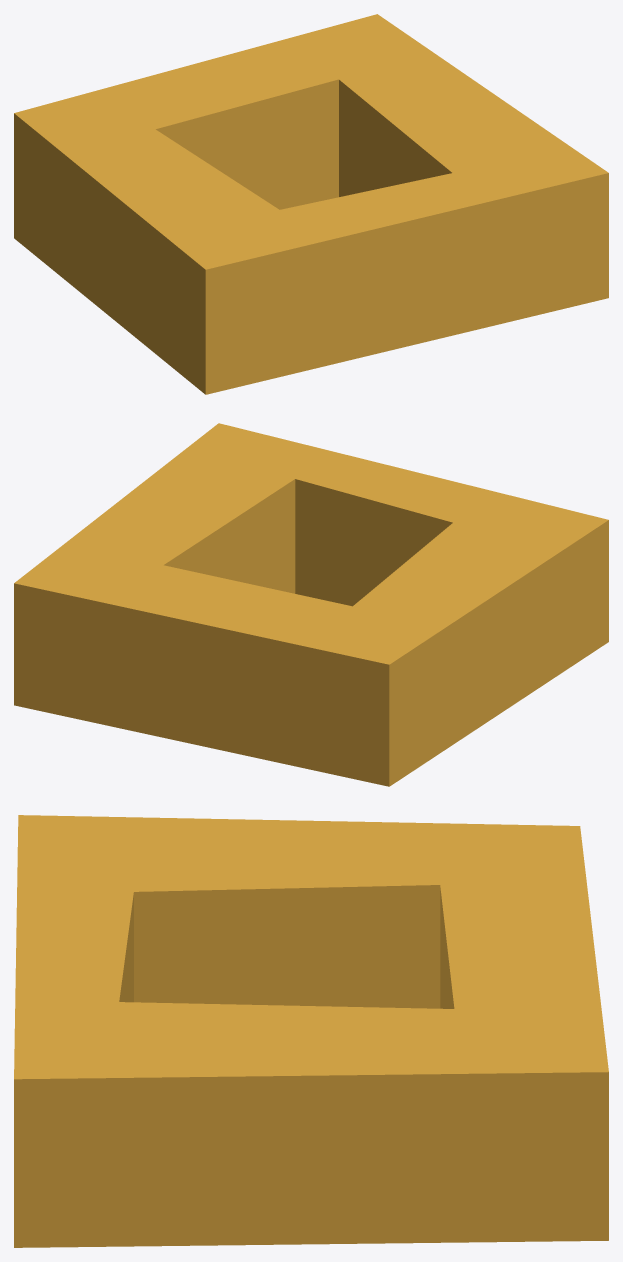
The model's file is letter_o.fbx.
3 renders of one model, top to bottom at view 1: azimuth 30°, elevation 25°; view 2: azimuth 150°, elevation 25°; view 3: azimuth 270°, elevation 25°, orthographic. The views are drawn at different scales.
Visible parts, largest first — view 1: O; view 2: O; view 3: O.
Part boxes in pixels (x1,y1,x2,y2): O: [14, 14, 608, 394]; O: [14, 423, 608, 786]; O: [14, 815, 608, 1247].
Bounding box in the file's own units: 528 × 157 × 503.
